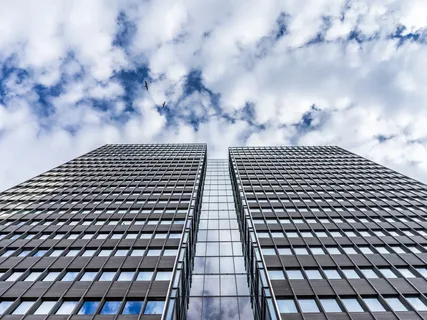high_rise_building: (91, 135, 344, 318)
